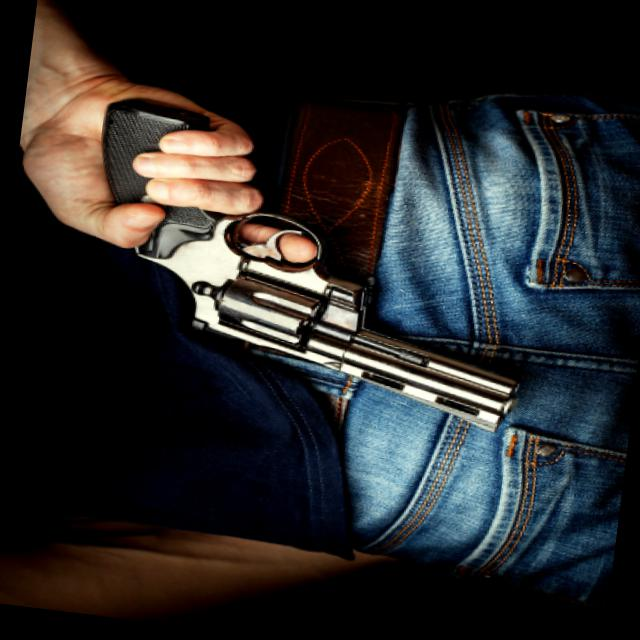handgun: (61, 90, 548, 436)
